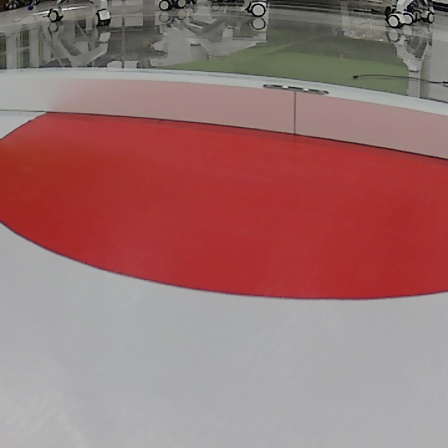red_base: (2, 108, 448, 304)
